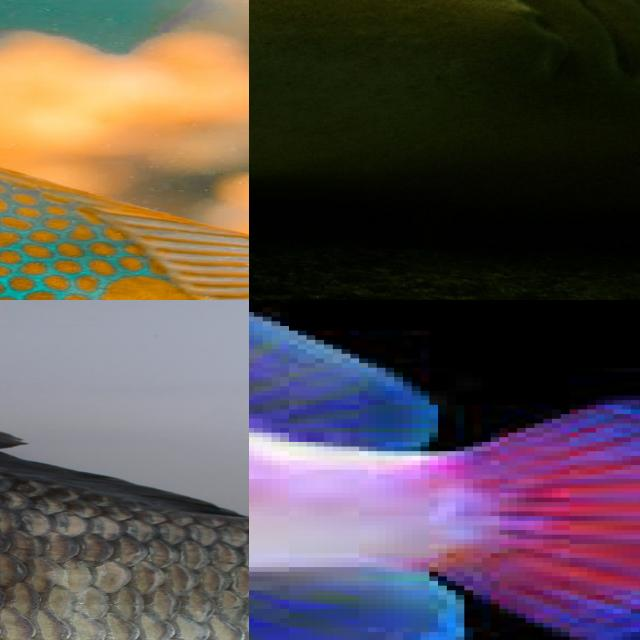fish: (249, 300, 640, 640), (249, 0, 640, 284), (0, 0, 249, 300), (0, 383, 249, 640)
